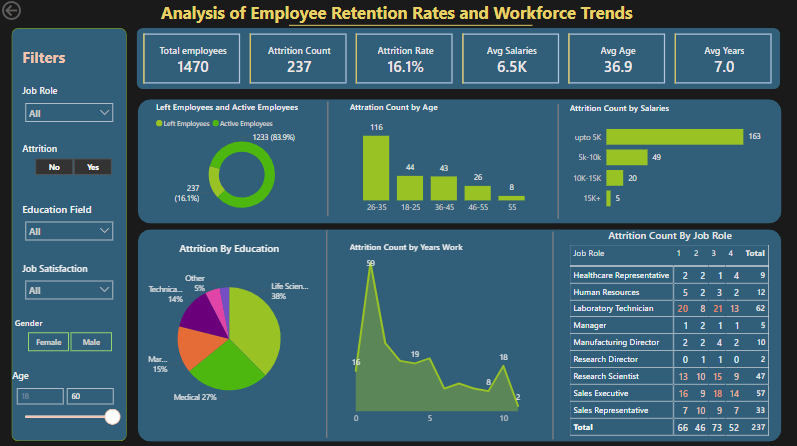

The page's visual inventory and layout, read from the dashboard file:
{"tool":"powerbi","page":{"name":"HR ANALYST","canvas":[1280,720],"ordinal":0},"visuals":[{"type":"textbox","box":[246.1,0,780,51.9],"z":0,"group":"g1"},{"type":"shape","box":[20,48.9,184.4,661.1],"z":0},{"type":"shape","box":[463.4,36.2,389.7,15.7],"z":1000,"group":"g1"},{"type":"shape","box":[220,48.9,1030,97.8],"z":1000},{"type":"shape","box":[221.1,161.1,1030,198.9],"z":2000},{"type":"shape","box":[221.1,370,1030,340],"z":3000},{"type":"cardVisual","fields":{"Data":["Measurment.Total employees","Measurment.Left Employees","Measurment.% Employee Left","Avg(hr Data.MonthlyIncome)","Avg(hr Data.Age)","Avg(hr Data.YearsAtCompany)"]},"box":[205.1,51.9,1055.6,90.5],"z":5000},{"type":"actionButton","box":[-0.8,0.9,100,40],"z":6000},{"type":"shape","box":[878.9,373.3,16.7,332.2],"z":7000},{"type":"donutChart","fields":{"Y":["Measurment.Left Employees","Measurment.NotLeft Employees"]},"box":[246.7,163.3,285.6,192.2],"z":8000},{"type":"pivotTable","title":"Attrition Count By Job Role","fields":{"Rows":["hr Data.JobRole"],"Columns":["hr Data.JobSatisfaction"],"Values":["Sum(hr Data.Attration Count)"]},"box":[908.9,367.8,331.1,342.2],"z":9000},{"type":"shape","box":[520,166.7,12.2,183.3],"z":10000},{"type":"slicer","title":"Gender","fields":{"Values":["hr Data.Gender"]},"box":[20,510,184.4,62.2],"z":11000},{"type":"slicer","title":"Age","fields":{"Values":["hr Data.Age"]},"box":[16.7,594.4,186.7,94.4],"z":12000},{"type":"slicer","title":"Education Field","fields":{"Values":["hr Data.EducationField"]},"box":[31.1,326.7,160,67.8],"z":13000},{"type":"textbox","box":[31.2,73.2,100,48.8],"z":14000},{"type":"slicer","title":"Job Role","fields":{"Values":["hr Data.JobRole"]},"box":[31.1,138.9,160,68.9],"z":15000},{"type":"slicer","title":"Job Satisfaction ","fields":{"Values":["hr Data.Age group"]},"box":[31.1,421.4,160,67.8],"z":16000},{"type":"pieChart","title":"Attrition By Education","fields":{"Y":["Sum(hr Data.Attrition Count)"],"Category":["hr Data.EducationField"]},"box":[233.3,387.8,268.9,293.3],"z":17000},{"type":"slicer","title":"Attrition","fields":{"Values":["hr Data.Attrition"]},"box":[31.1,230,172.2,60],"z":18000},{"type":"columnChart","title":"Attration Count by Age","fields":{"Category":["hr Data.Age group"],"Y":["Sum(hr Data.Attration Count)"]},"box":[555.6,163.3,313.3,190],"z":19000},{"type":"clusteredBarChart","title":"Attrition Count by Salaries ","fields":{"Category":["hr Data.Salaries group"],"Y":["Sum(hr Data.Attrition Count)"]},"box":[908.9,166.7,317.8,186.7],"z":20000},{"type":"shape","box":[887.8,170,13.3,183.3],"z":21000},{"type":"shape","box":[515.6,372.2,16.7,332.2],"z":22000},{"type":"areaChart","title":"Attrition Count by Years Work","fields":{"Category":["hr Data.YearsAtCompany"],"Y":["Sum(hr Data.Attrition Count)"]},"box":[555.6,387.8,313.3,303.3],"z":23000},{"type":"group","id":"g1","title":"Group 1","box":[246.1,0,780.6,51.9],"z":23500}]}

Visuals, with their boxes in screenshot pixels (x1, y1, x2, y2), scaled from the page's 1280x720 canvas onto the 797x446 screenshot:
textbox: left=153, top=0, right=639, bottom=32
shape: left=12, top=30, right=127, bottom=440
shape: left=289, top=22, right=531, bottom=32
shape: left=137, top=30, right=778, bottom=91
shape: left=138, top=100, right=779, bottom=223
shape: left=138, top=229, right=779, bottom=440
cardVisual - Measurment.Total employees x Measurment.Left Employees: left=128, top=32, right=785, bottom=88
actionButton: left=0, top=1, right=62, bottom=25
shape: left=547, top=231, right=558, bottom=437
donutChart - Measurment.Left Employees x Measurment.NotLeft Employees: left=154, top=101, right=331, bottom=220
"Attrition Count By Job Role" pivotTable: left=566, top=228, right=772, bottom=440
shape: left=324, top=103, right=331, bottom=217
"Gender" slicer: left=12, top=316, right=127, bottom=354
"Age" slicer: left=10, top=368, right=127, bottom=427
"Education Field" slicer: left=19, top=202, right=119, bottom=244
textbox: left=19, top=45, right=82, bottom=76
"Job Role" slicer: left=19, top=86, right=119, bottom=129
"Job Satisfaction " slicer: left=19, top=261, right=119, bottom=303
"Attrition By Education" pieChart: left=145, top=240, right=313, bottom=422
"Attrition" slicer: left=19, top=142, right=127, bottom=180
"Attration Count by Age" columnChart: left=346, top=101, right=541, bottom=219
"Attrition Count by Salaries " clusteredBarChart: left=566, top=103, right=764, bottom=219
shape: left=553, top=105, right=561, bottom=219
shape: left=321, top=231, right=331, bottom=436
"Attrition Count by Years Work" areaChart: left=346, top=240, right=541, bottom=428
"Group 1" group: left=153, top=0, right=639, bottom=32
